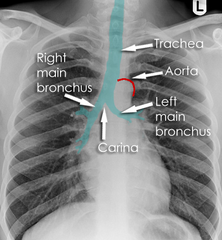telestration: (35, 51, 94, 94), (154, 96, 212, 138), (153, 37, 206, 49), (62, 91, 96, 107), (96, 141, 139, 153), (120, 100, 153, 113), (116, 76, 137, 95), (164, 65, 200, 76), (120, 42, 154, 51), (98, 107, 107, 138), (132, 70, 164, 78)
